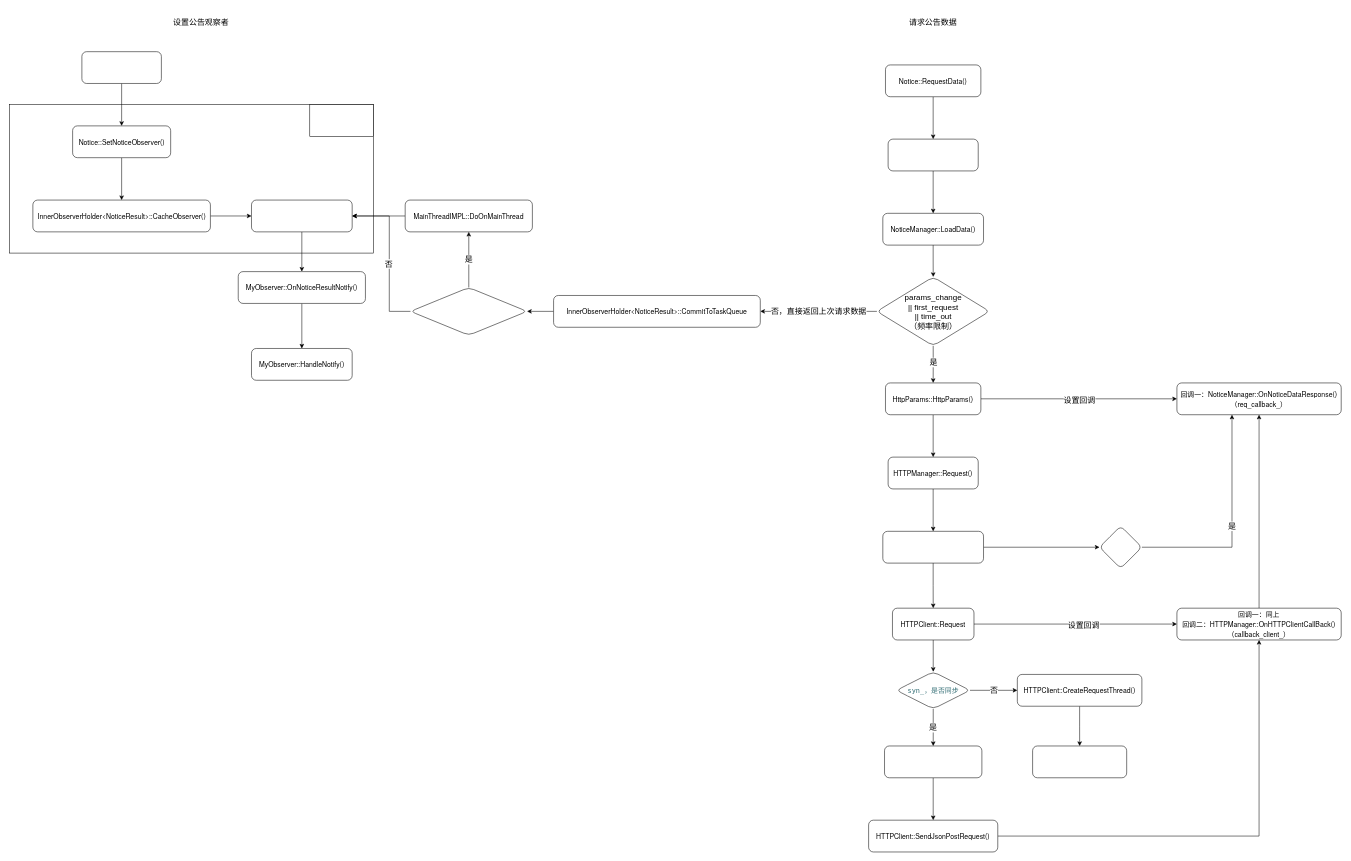
Some shapes in this 1351 by 861 pixel diagram are drawn without their labels. Each missing label, with the box of its shape:
CheckBeforeExecute(): (888, 139, 978, 171)
Core层 命名空间：intl: (309, 104, 373, 136)
dispatch_to_mainthread_: (410, 287, 527, 335)
HTTPClient::SendRequest(): (884, 745, 982, 778)
HTTPManager::RunRequest(): (882, 531, 984, 563)
Notice::NoticeRetObserver(): (251, 200, 352, 232)
NoticeViewController: (81, 51, 161, 83)
ThreadPool::CommitTask(): (1032, 745, 1127, 778)
timeout: (1099, 525, 1142, 568)
